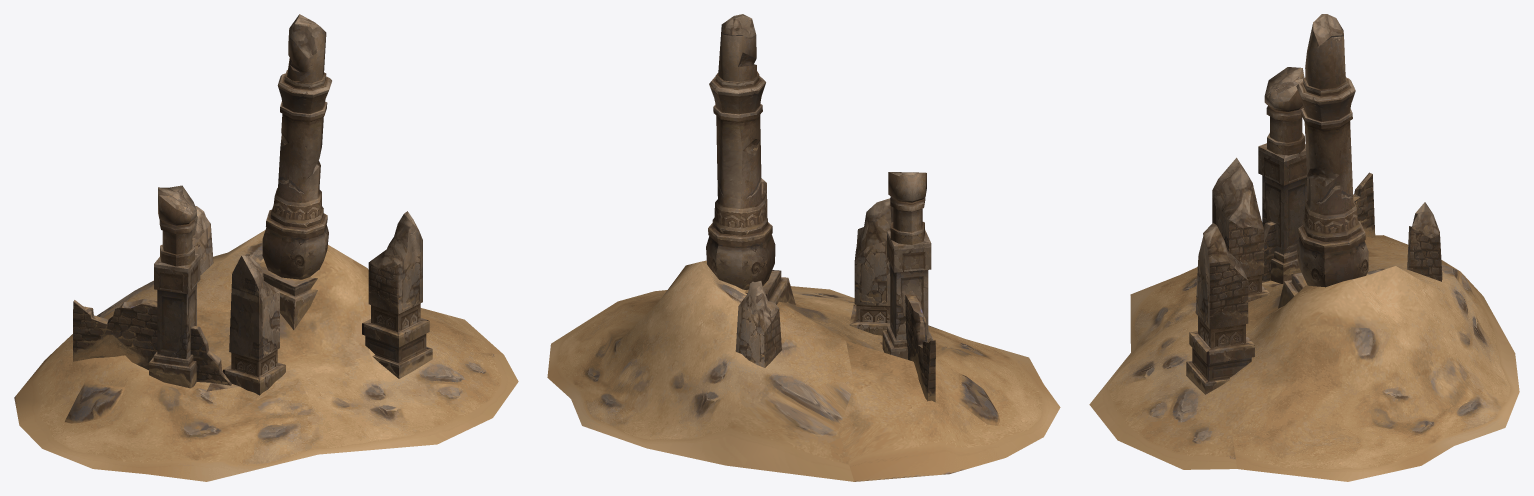
Rendered from xsm_shazi_5.FBX.
3 renders of one model, left to right at view 1: azimuth 30°, elevation 25°; view 2: azimuth 150°, elevation 25°; view 3: azimuth 270°, elevation 25°, orthographic. The views are drawn at different scales.
Visible parts, largest first — view 1: xsm_shazi_5; view 2: xsm_shazi_5; view 3: xsm_shazi_5.
Boxes of the visible parts, <box> form: xsm_shazi_5: <box>14,14,518,481</box>; xsm_shazi_5: <box>547,14,1060,481</box>; xsm_shazi_5: <box>1089,14,1519,481</box>.
Size of the model in its own units: 105 by 79.07 by 81.93.
